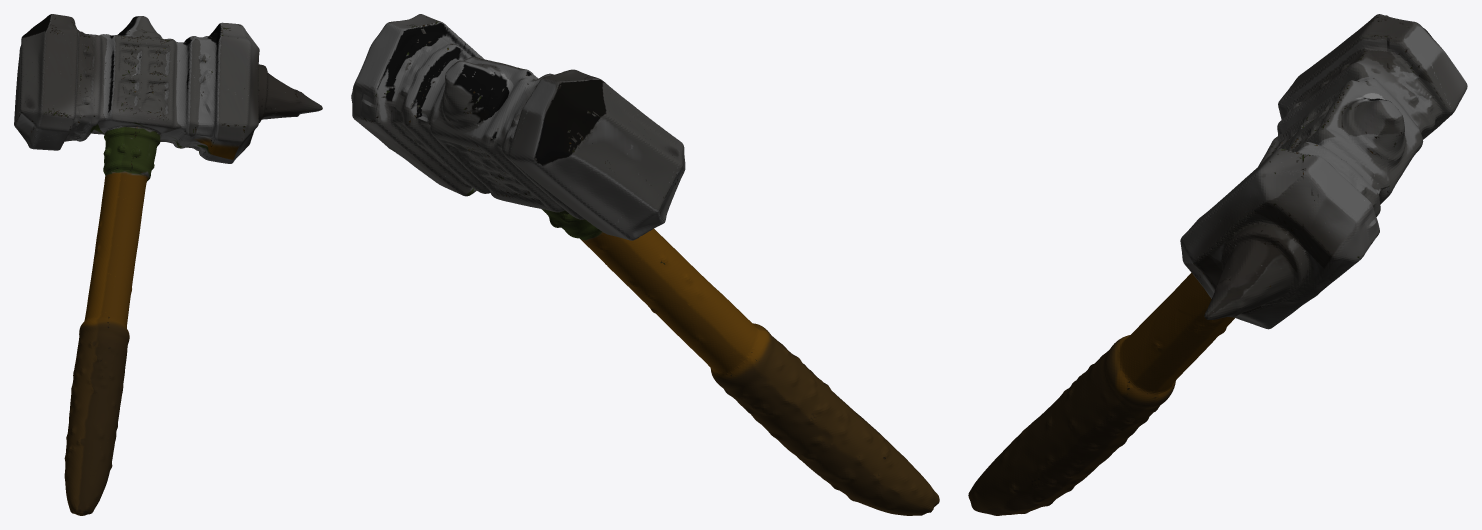
File: marreta.glb
3 renders of one model, left to right at view 1: azimuth 30°, elevation 25°; view 2: azimuth 150°, elevation 25°; view 3: azimuth 270°, elevation 25°, orthographic. The views are drawn at different scales.
Parts seen in each view (by area): view 1: tmpuws4zlou.ply; view 2: tmpuws4zlou.ply; view 3: tmpuws4zlou.ply.
Part boxes in pixels (box(x1,y1,x2,y2)): tmpuws4zlou.ply: box(14, 14, 322, 515); tmpuws4zlou.ply: box(351, 14, 939, 515); tmpuws4zlou.ply: box(968, 14, 1467, 515).
Size of the model in its own units: 1.78 by 1.96 by 1.56.
1 material, 1 textured.
